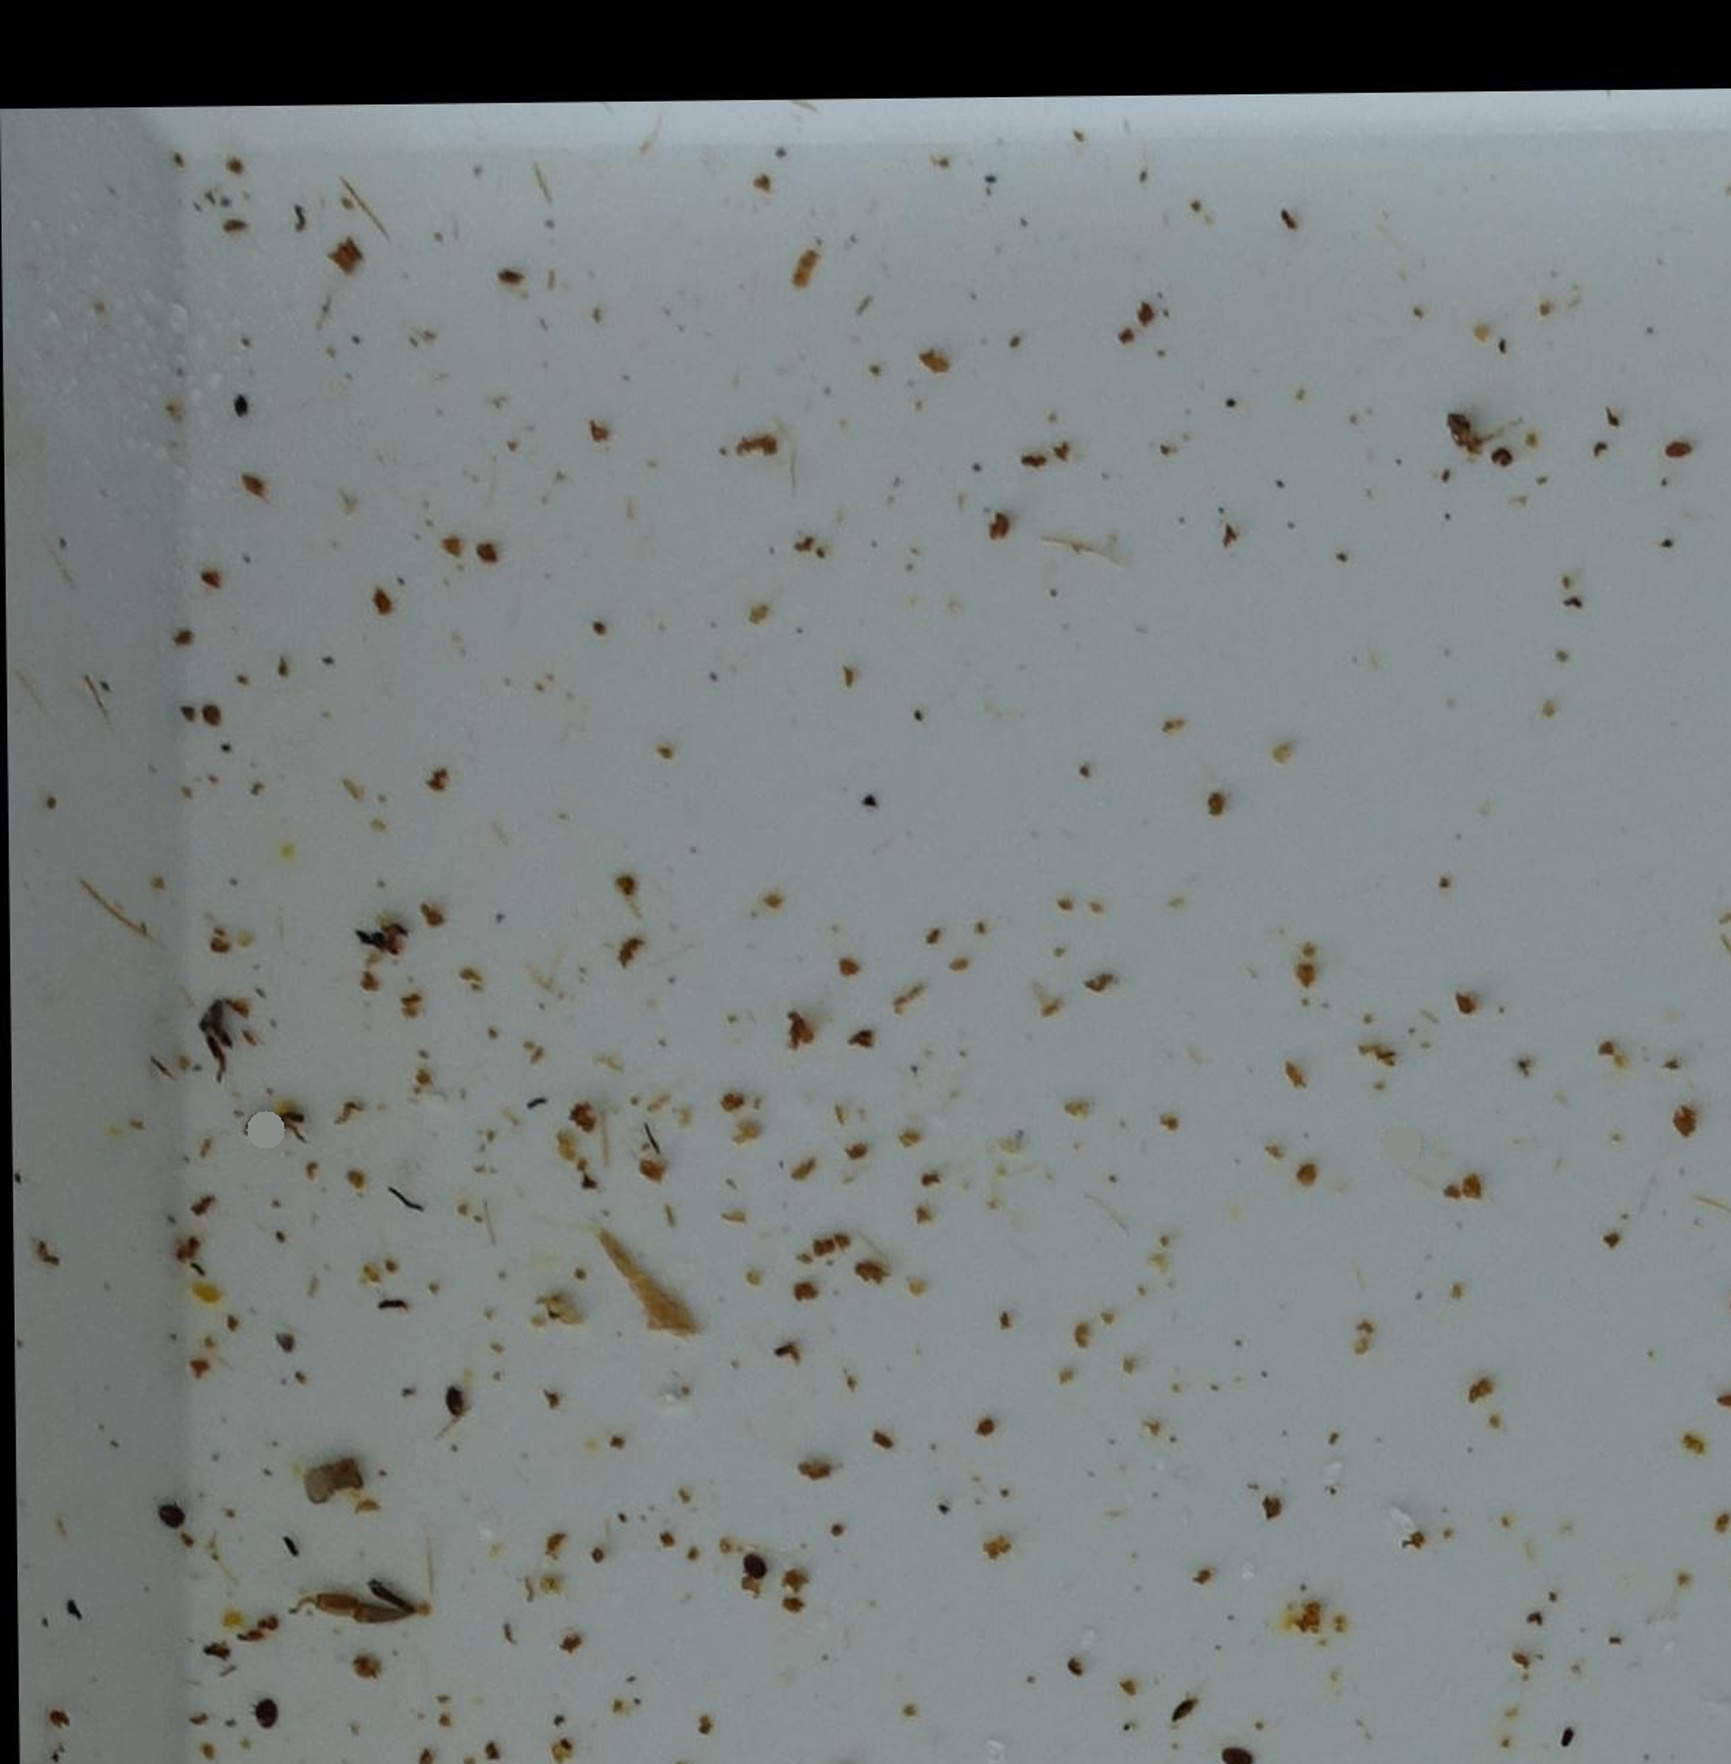Varroa: (430, 1377, 474, 1422), (252, 1697, 284, 1729), (159, 1498, 187, 1529), (743, 1545, 772, 1577)
